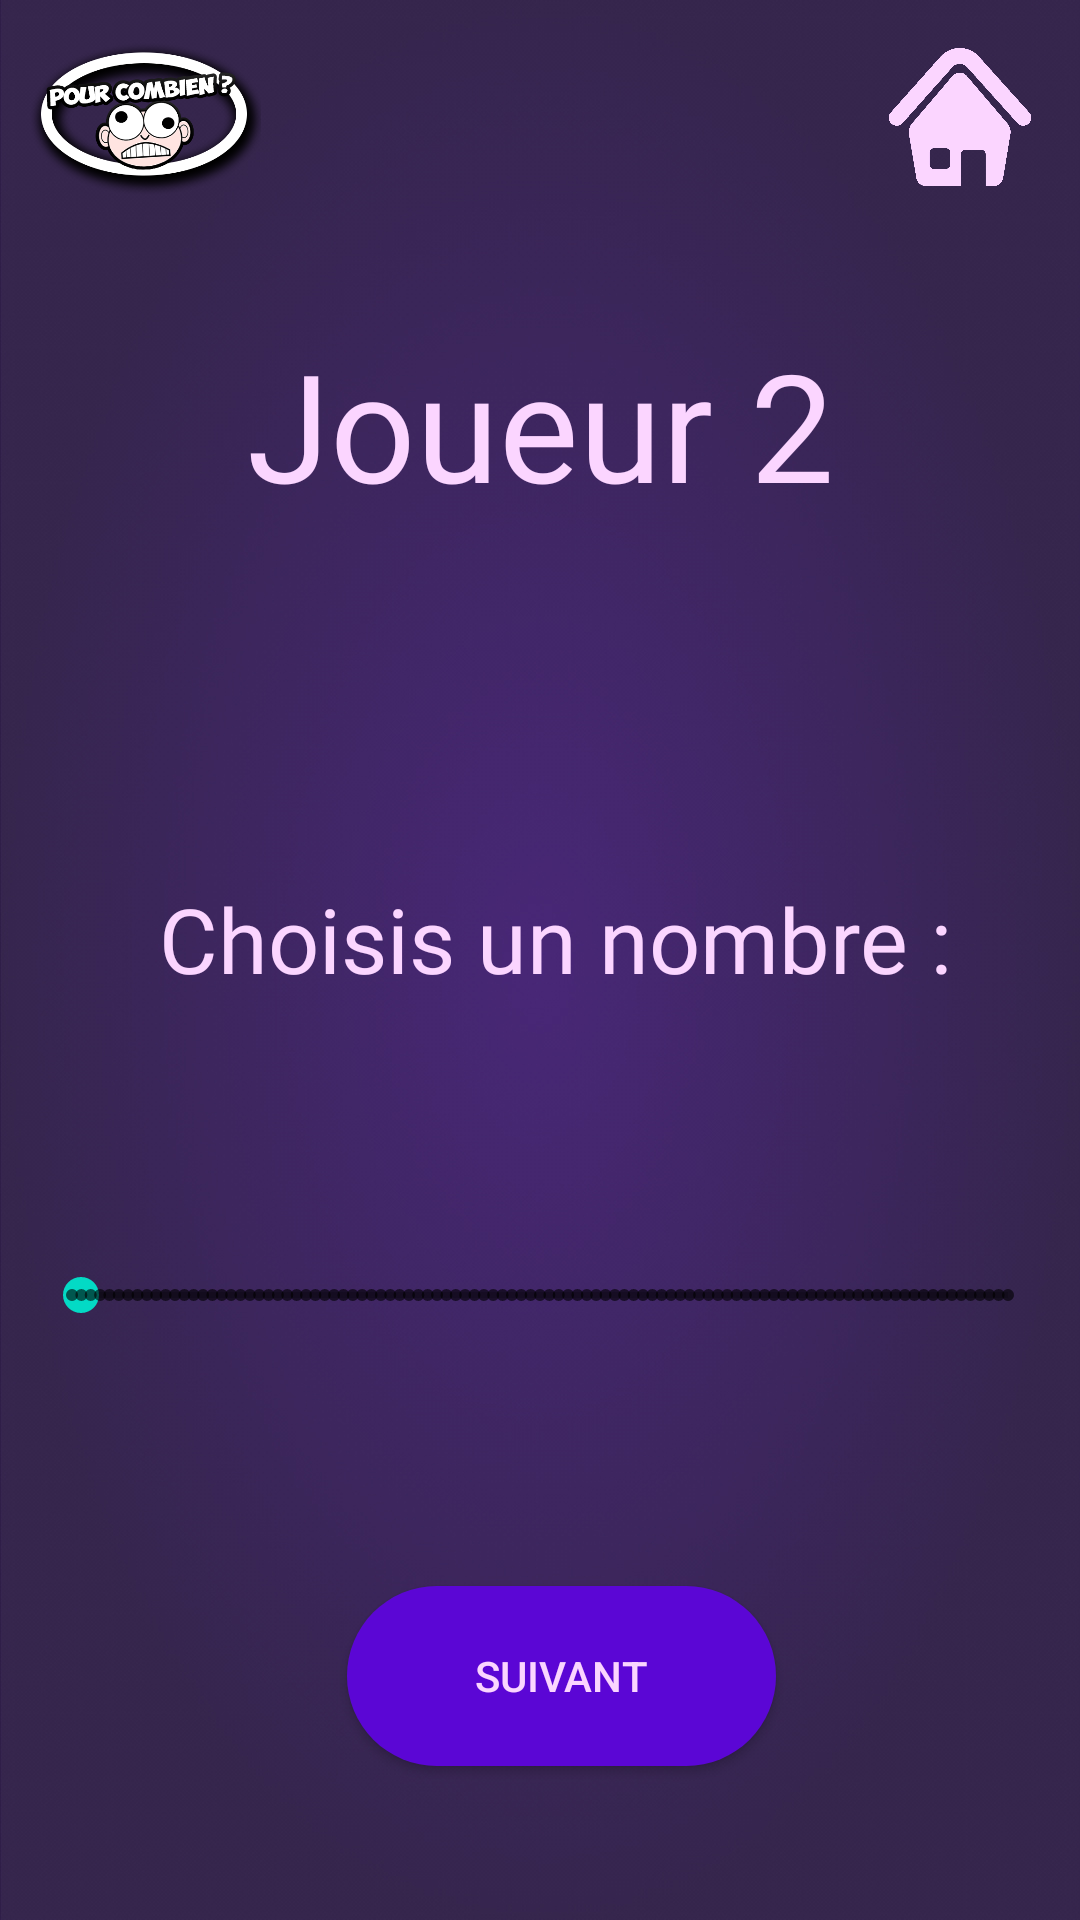

Icon bounding boxes for this 1080*1920 phone screenshot, format (x1, y1, x2, y2):
Bouton pour retourner à la page d'accueil: (889, 48, 1031, 186)
